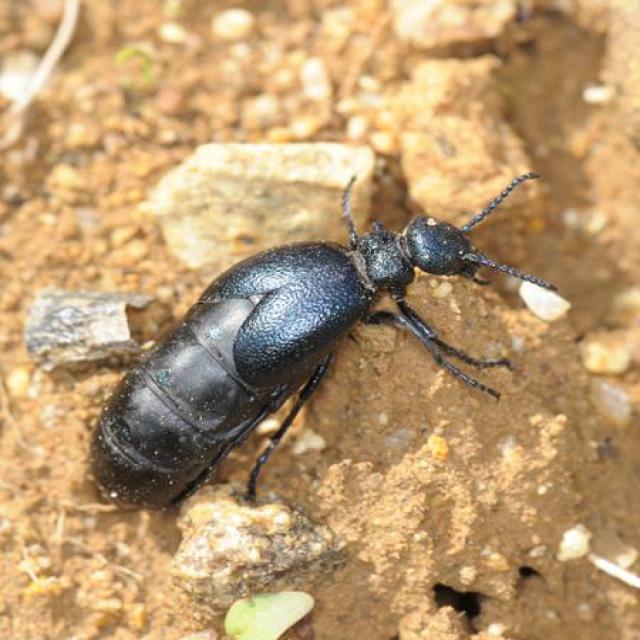BlisterBeetle-Adult-: (88, 164, 557, 517)
